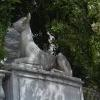Statue: (10, 9, 76, 80)
